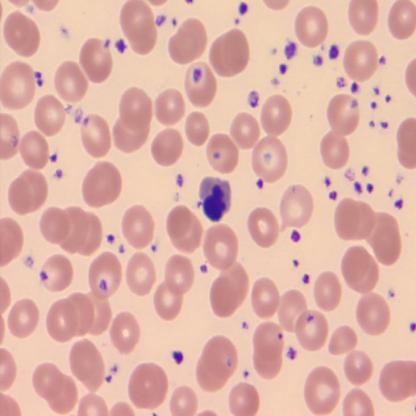NRC: (197, 173, 233, 225)
